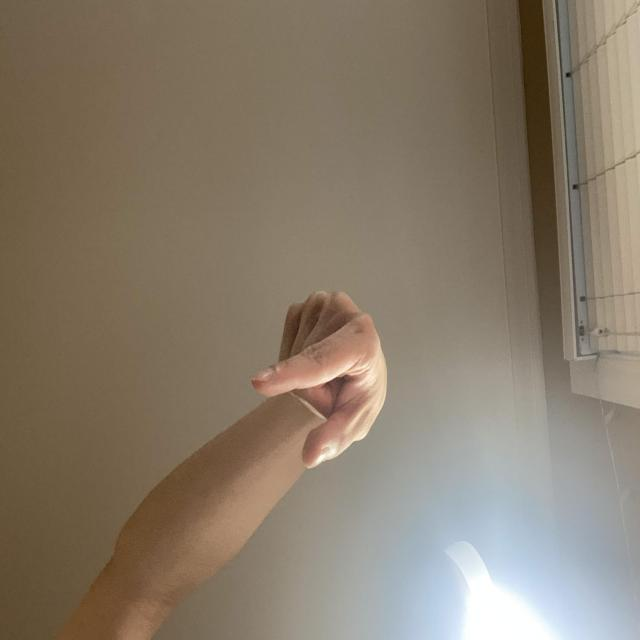Q: (374, 330, 515, 522)
